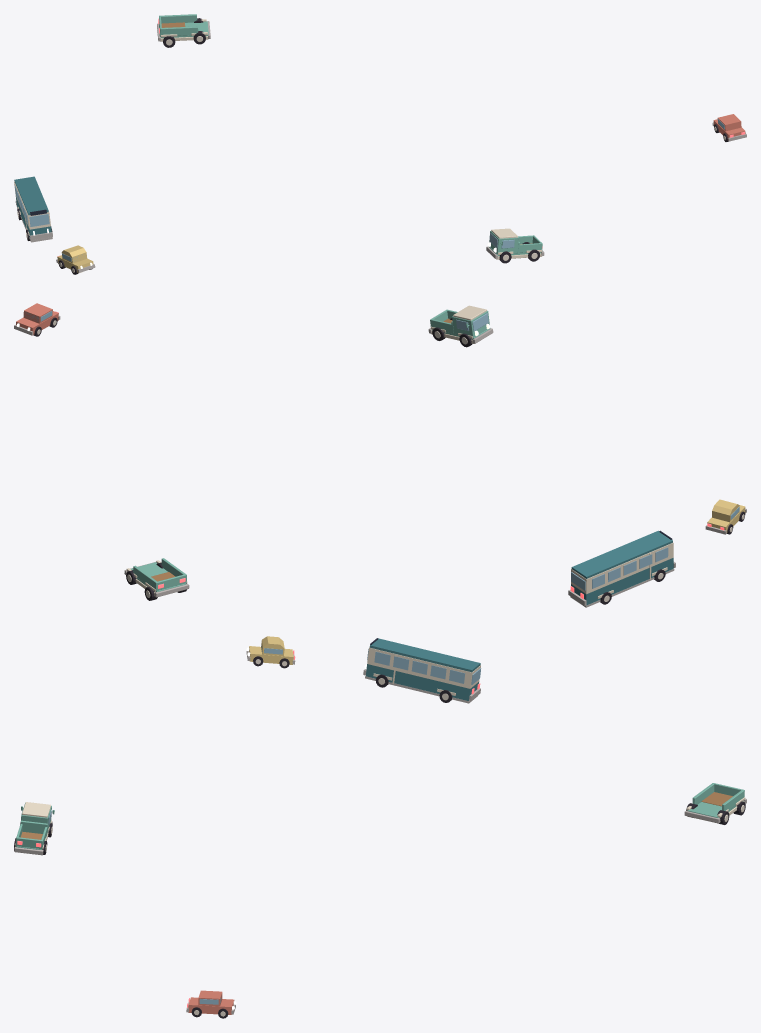
Rendered from cars.glb.
3 renders of one model, top to bottom at view 1: azimuth 30°, elevation 25°; view 2: azimuth 150°, elevation 25°; view 3: azimuth 270°, elevation 25°, orthographic. The views are drawn at different scales.
Parts seen in each view (by area): view 1: 公車, CAR.001, CAR, 對向車B, 對向車A; view 2: 公車, CAR.001, CAR, 對向車A, 對向車B; view 3: 公車, CAR, CAR.001, 對向車B, 對向車A.
Part boxes in pixels (left/top/right/bottom): 公車: left=14, top=176, right=52, bottom=242; CAR.001: left=486, top=228, right=544, bottom=263; CAR: left=157, top=14, right=210, bottom=47; 對向車B: left=56, top=245, right=95, bottom=274; 對向車A: left=712, top=114, right=746, bottom=141; 公車: left=568, top=530, right=675, bottom=607; CAR.001: left=428, top=305, right=493, bottom=347; CAR: left=124, top=558, right=189, bottom=600; 對向車A: left=14, top=303, right=60, bottom=336; 對向車B: left=705, top=499, right=746, bottom=534; 公車: left=363, top=638, right=481, bottom=703; CAR: left=684, top=783, right=746, bottom=824; CAR.001: left=14, top=802, right=54, bottom=855; 對向車B: left=246, top=636, right=295, bottom=668; 對向車A: left=186, top=990, right=236, bottom=1018.
Bounding box in the file's own units: 36.15 × 2.59 × 30.95.
